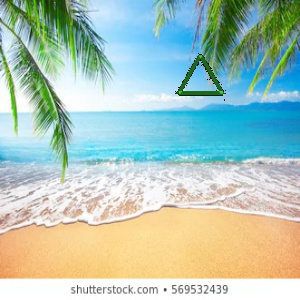triangle: (173, 53, 227, 99)
